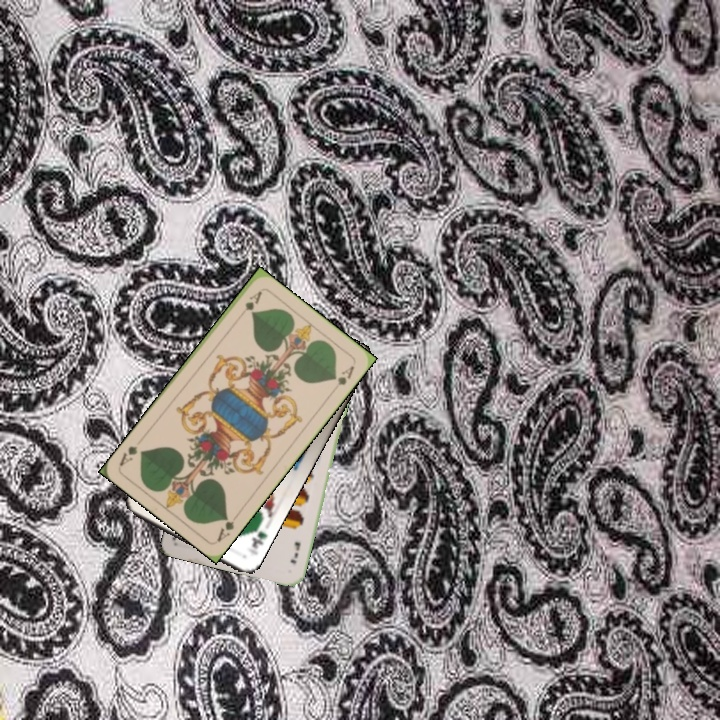E7: (286, 538, 303, 566)
GA: (234, 286, 265, 321), (213, 510, 242, 545)
GK: (242, 520, 270, 558)
